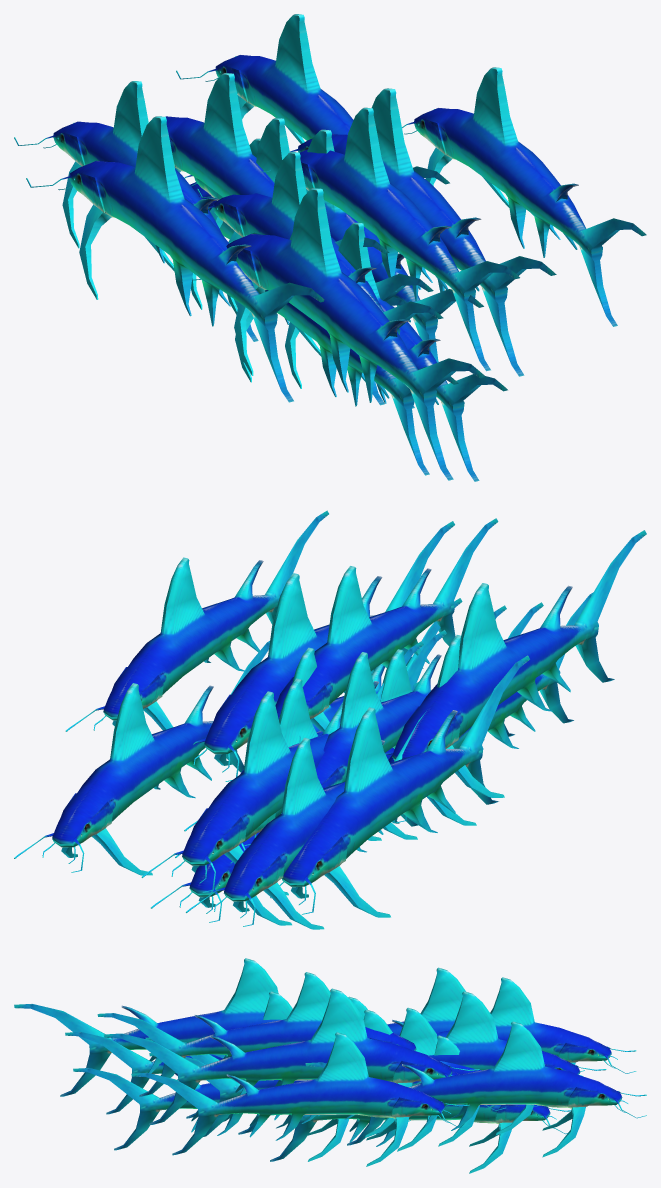
File: RawFishPile_Catfish.glb
The picture shows the model from 3 angles, top to bottom: view 1: azimuth 30°, elevation 25°; view 2: azimuth 150°, elevation 25°; view 3: azimuth 270°, elevation 25°; orthographic projection. The views are drawn at different scales.
Parts seen in each view (by area): view 1: RawFishPile_Catfish; view 2: RawFishPile_Catfish; view 3: RawFishPile_Catfish.
Boxes of the visible parts, <box> form: RawFishPile_Catfish: <box>14,14,646,481</box>; RawFishPile_Catfish: <box>14,510,646,929</box>; RawFishPile_Catfish: <box>14,958,646,1173</box>.
Bounding box in the file's own units: 0.8457 × 0.6414 × 1.9.
1 material, 1 textured.
